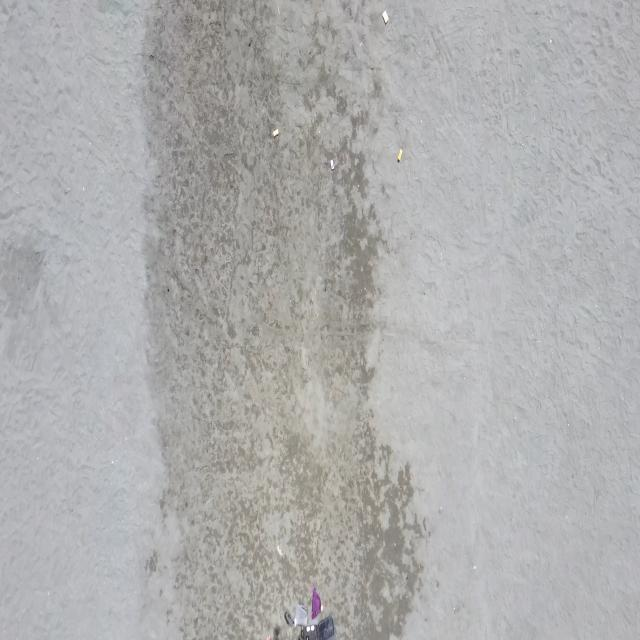Garbage: (284, 584, 333, 639), (316, 615, 335, 639), (311, 586, 320, 620), (293, 604, 306, 624), (284, 611, 292, 624), (395, 148, 402, 160), (276, 544, 283, 555), (382, 10, 387, 24), (329, 159, 335, 169), (272, 128, 278, 136)
